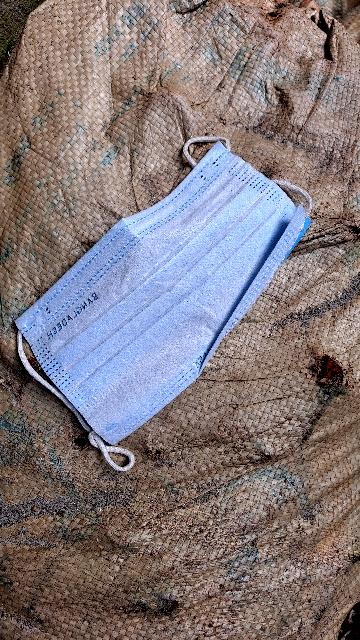mask: (5, 111, 328, 482)
